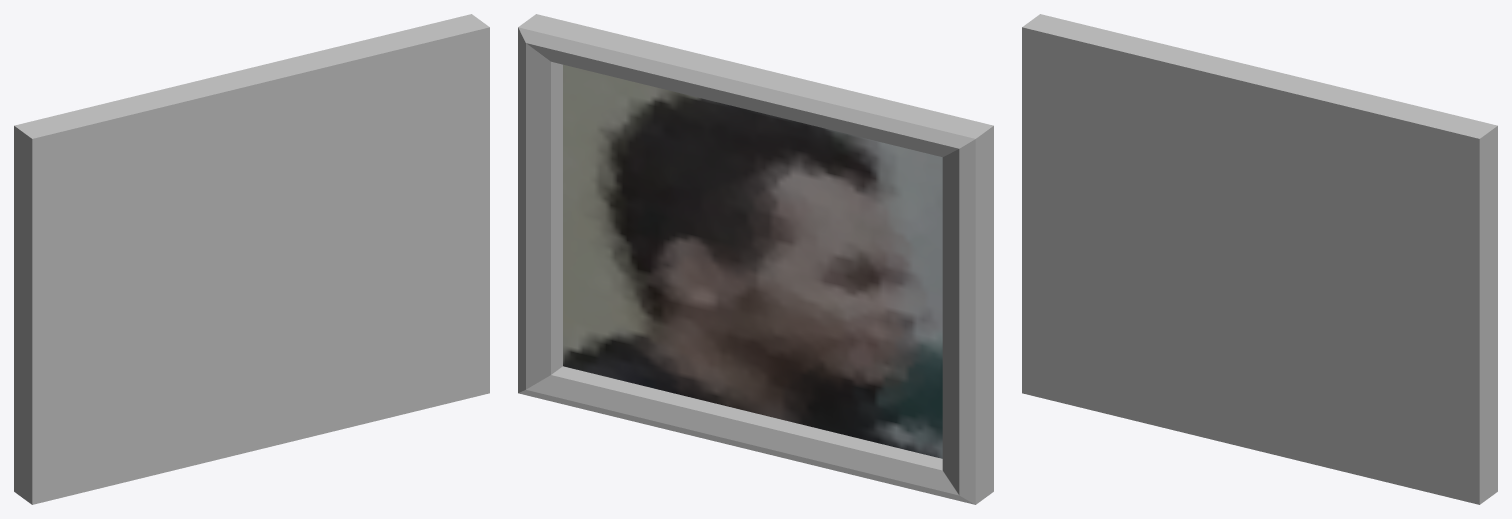
File: rickyPainting.fbx
3 renders of one model, left to right at view 1: azimuth 30°, elevation 25°; view 2: azimuth 150°, elevation 25°; view 3: azimuth 330°, elevation 25°, orthographic.
Visible parts, largest first — view 1: Cube.003; view 2: Cube.003; view 3: Cube.003.
Boxes of the visible parts, x1,y1,x2,y2 form: Cube.003: [14, 14, 489, 504]; Cube.003: [518, 14, 993, 504]; Cube.003: [1022, 14, 1497, 504].
Size of the model in its own units: 200 by 153 by 17.
